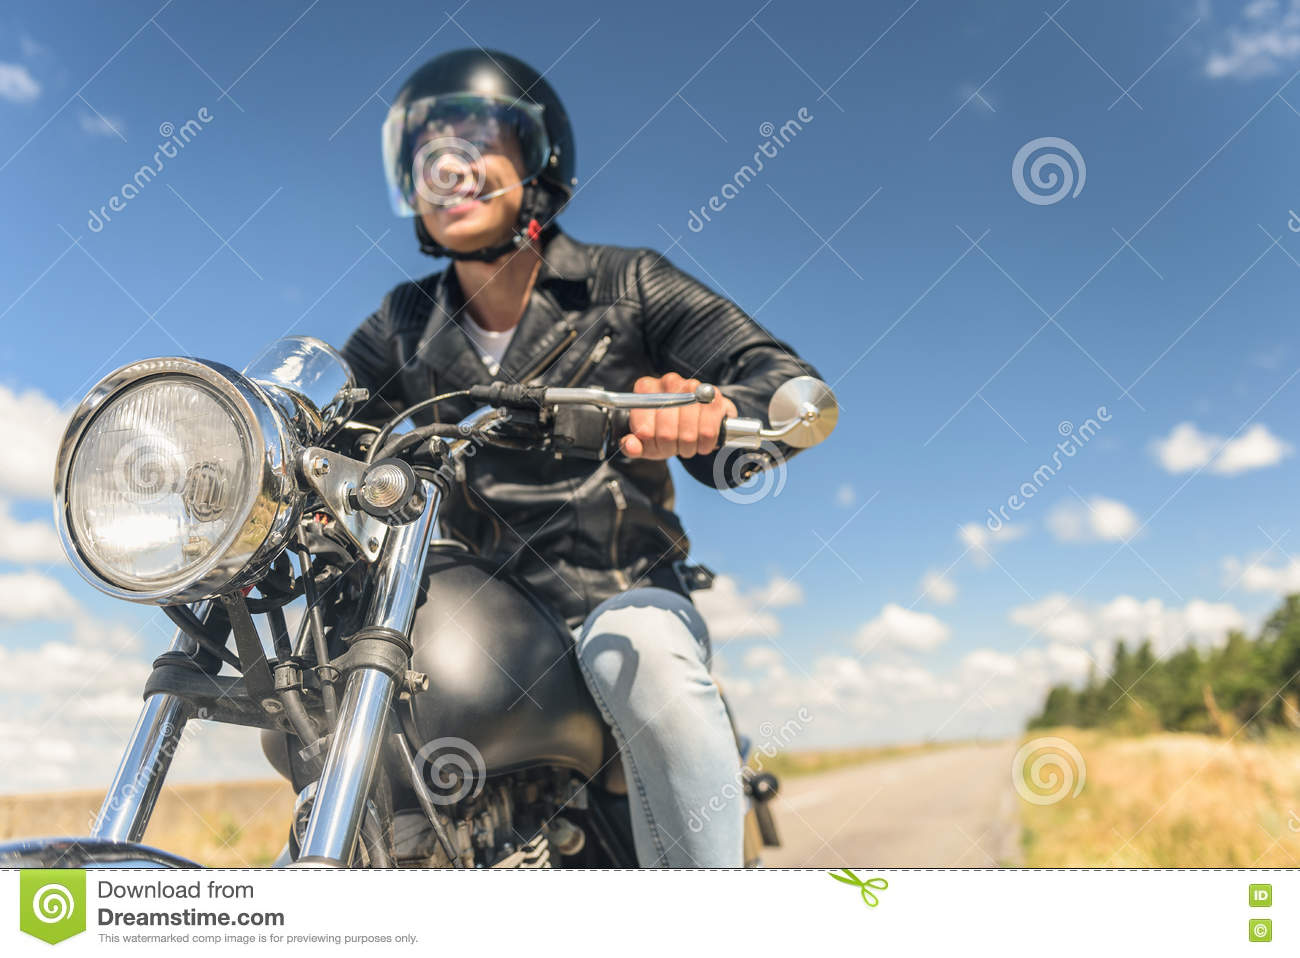helmet: (367, 63, 580, 221)
